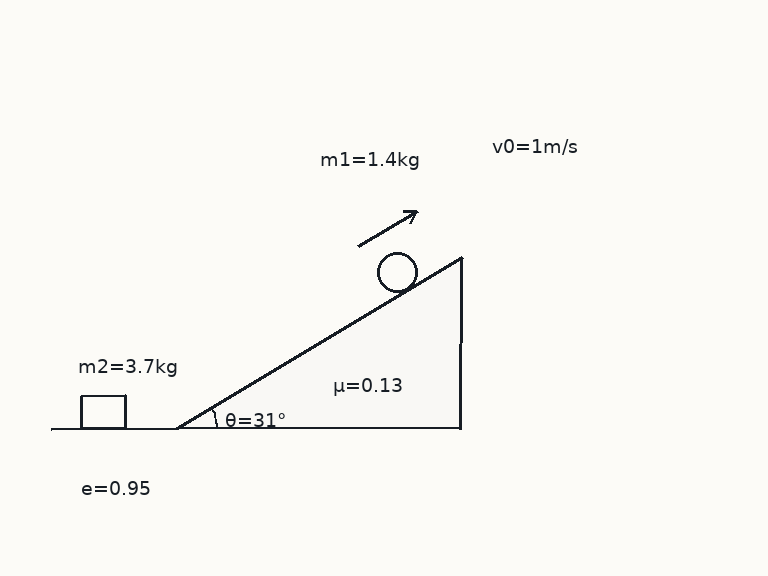ball: (375, 250, 419, 294)
block: (79, 394, 127, 430)
ramp: (175, 256, 463, 430)
